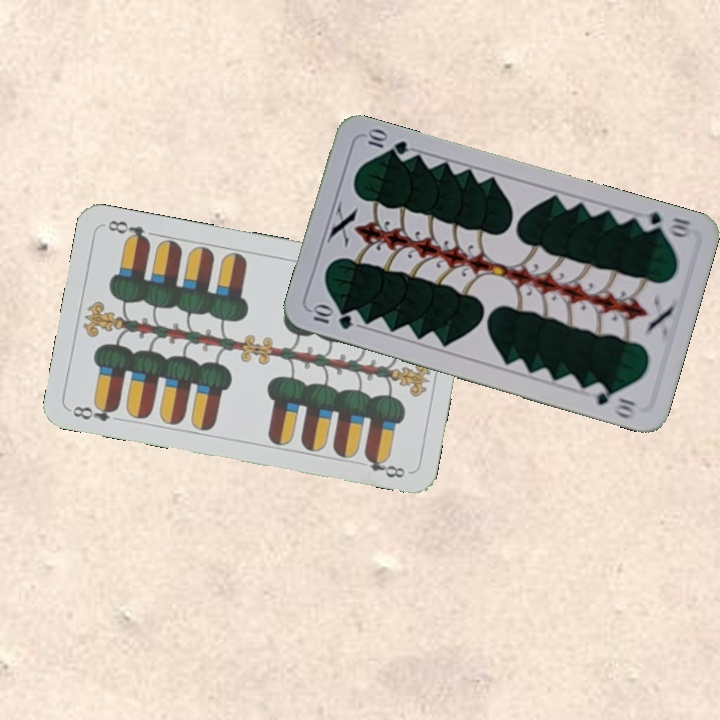E8: (68, 398, 122, 424)
G10: (634, 207, 695, 241), (309, 302, 355, 332)
